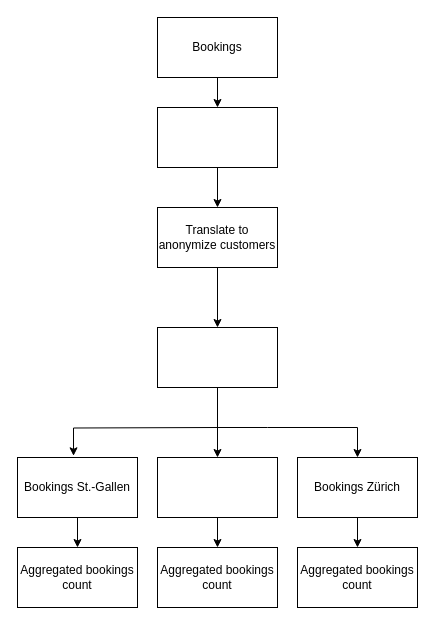
Image size: 435x625. Some labels were removed from this diagram. The centre of each missing label's shape, as x and y in pixels:
"Bookings Bern" belongs at (x=217, y=487).
"Branch & Re-key Router" belongs at (x=217, y=357).
"Filter out timestamps" belongs at (x=217, y=137).
